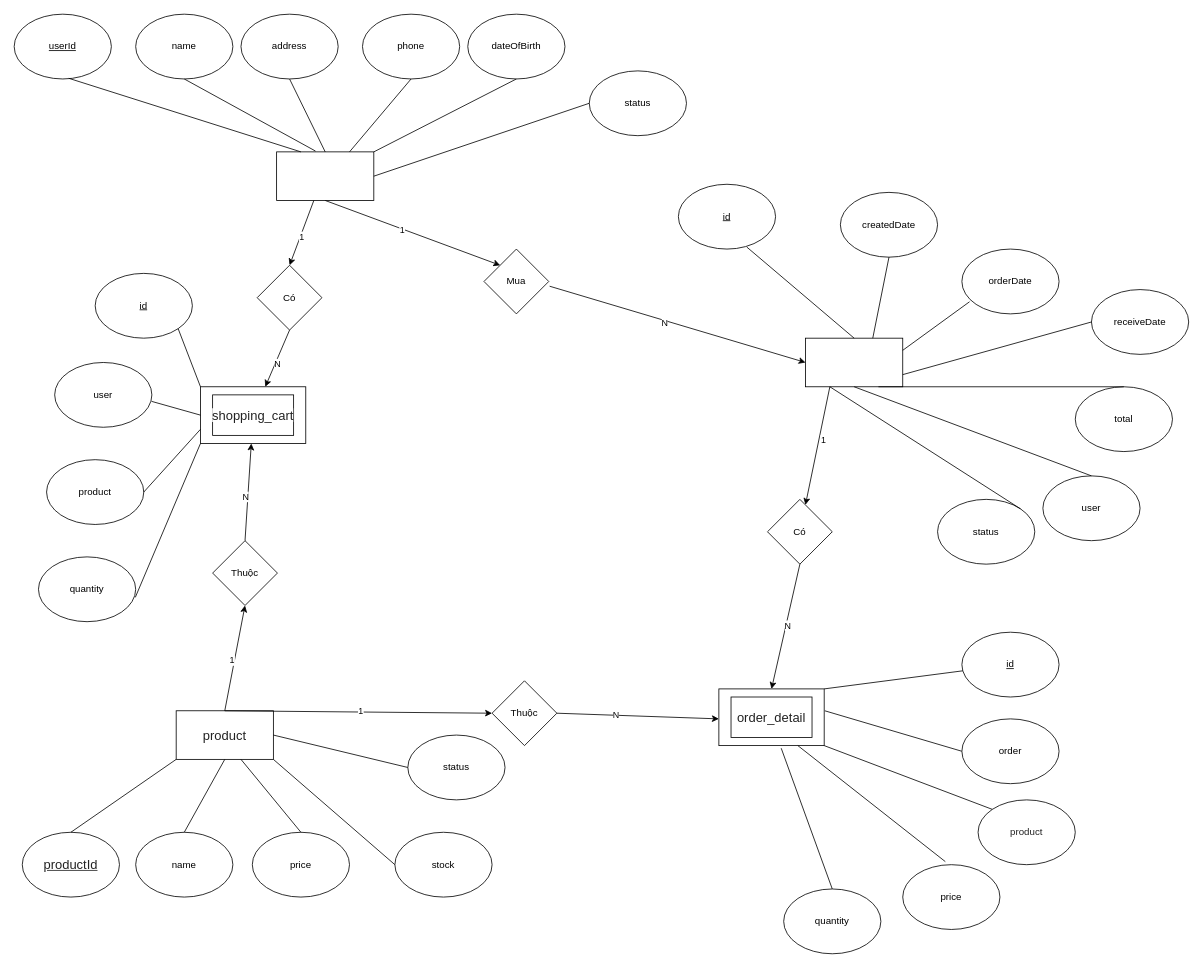
Image size: 1203x968. Some labels were removed from this diagram. Here are the shapes that lost their labels. From the top down, the centre of each, then its label:
At point 325,175: "users".
At point 854,362: "orders".
